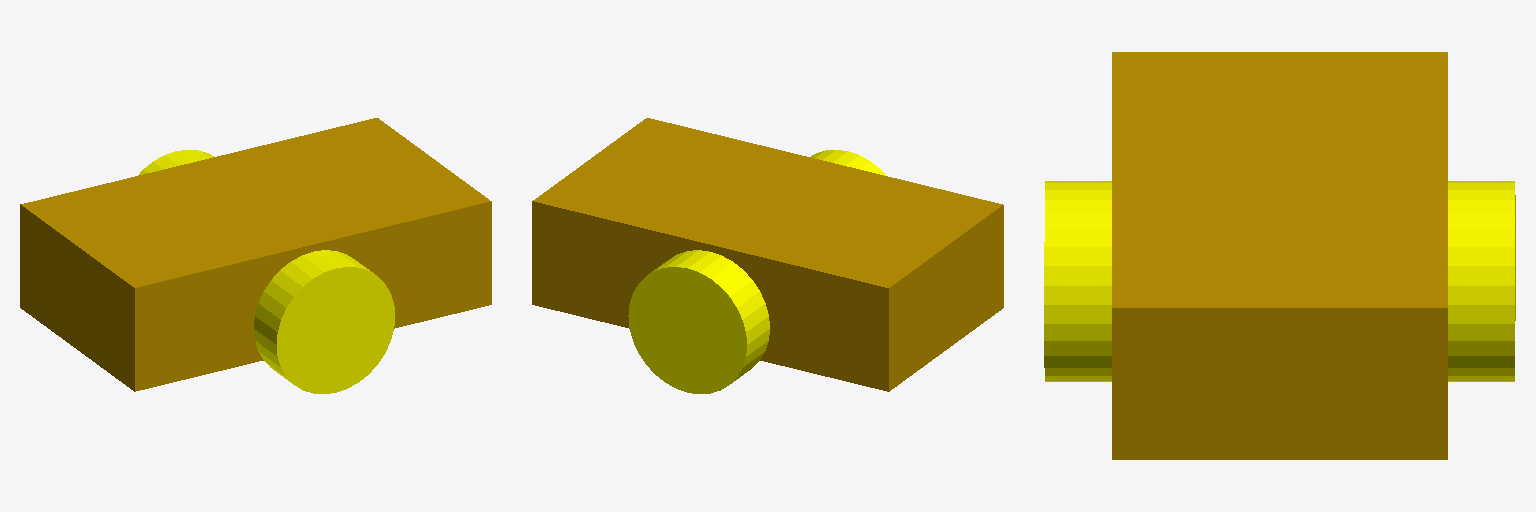
URDF robot description (my_bot):
<?xml version="1.0"?>
<robot name="my_bot">

    <material name="yellow_light">
        <color rgba="1.0 1.0 0.0 0.7"/>
    </material>

    <material name ='wooden'>
        <color rgba='0.76 0.60 0.024 1'/>
    </material>

    <material name ='black'>
        <color rgba='0.0 0.0 0.0 1'/>
    </material>

    <link name="base_link">
    </link>

    <link name="base_footprint">
    </link>
    
    <joint name="footprint_joint" type="fixed">
        <parent link="base_link"/>
        <child link="base_footprint"/>
        <origin xyz="0 0 0" rpy="0 0 0"/>
    </joint>

    <!-- B O D Y -->
    <link name="chassis">
        <visual>
            <geometry>
                <box size="0.3 0.54 0.15"/>
            </geometry>
            <material name="wooden"/>
        </visual>

        <collision>
            <geometry>
                <box size="0.3 0.54 0.15"/>
            </geometry>
        </collision>

        <inertial>
            <mass value="0.1"/>
            <origin rpy="0 0 0" xyz="0 0 0"/>
            <inertia ixx=" 0.0026175000000000005" ixy="0" ixz="0" iyy="0.0009375" iyz="0" izz="0.004860000000000001"/>
        </inertial>

    </link>

    <joint name="base_link_joint" type="fixed">
        <origin rpy="0 0 1.57" xyz="0 0 0" />
        <parent link="base_link" />
        <child link="chassis" />
    </joint>

    <!-- Wheel Left -->
    <link name="left_wheel">
        <visual>
            <origin rpy="0 1.5707 0" xyz="0 0 0"/>
            <geometry>
                <cylinder length="0.06" radius="0.09"/>
            </geometry>
            <material name="yellow_light"/>
        </visual>

        <collision>
            <origin rpy="0 1.5707 0" xyz="0 0 0"/>
            <geometry>
                <cylinder length="0.06" radius="0.09"/>
            </geometry>
        </collision>

        <inertial>
            <origin rpy="0 1.5707 0" xyz="0 0 0"/>
            <mass value="0.1"/>
            <inertia ixx="0.00023250000000000004" ixy="0" ixz="0" iyy="0.00023250000000000004" iyz="0" izz="0.000405"/>
        </inertial>
    </link>
    
    <gazebo reference="left_wheel">
        <kp>100000000000000000000.0</kp>
        <kd>100000000000000000000.0</kd>
        <mu1>10</mu1>
        <mu2>10</mu2>
        <material>Gazebo/Black</material>
    </gazebo>

    <joint name="joint_left_wheel" type="continuous">
        <origin rpy="0 0 0" xyz="0.18 0 -0.025"/>
        <child link="left_wheel"/>
        <parent link="chassis"/>
        <axis rpy="0 0 0" xyz="1 0 0"/>
        <limit effort="10000" velocity="1000"/>
        <joint_properties damping="1.0" friction="1.0"/>
    </joint>

    <!-- Wheel Right -->
    <link name="right_wheel">
        <visual>
            <origin rpy="0 1.5707 0" xyz="0 0 0"/>
            <geometry>
                <cylinder length="0.06" radius="0.09"/>
            </geometry>
            <material name="yellow_light"/>
        </visual>

        <collision>
            <origin rpy="0 1.5707 0" xyz="0 0 0"/>
            <geometry>
                <cylinder length="0.06" radius="0.09"/>
            </geometry>
        </collision>

        <inertial>
            <origin rpy="0 1.5707 0" xyz="0 0 0"/>
            <mass value="0.1"/>
            <inertia ixx="0.00023250000000000004" ixy="0" ixz="0" iyy="0.00023250000000000004" iyz="0" izz="0.000405"/>
        </inertial>
    </link>

    <gazebo reference="right_wheel">
        <kp>100000000000000000000.0</kp>
        <kd>100000000000000000000.0</kd>
        <mu1>10</mu1>
        <mu2>10</mu2>
        <material>Gazebo/Black</material>
    </gazebo>

    <joint name="joint_right_wheel" type="continuous">
        <origin rpy="0 0 0" xyz="-0.18 0 -0.025"/>
        <child link="right_wheel"/>
        <parent link="chassis"/>
        <axis rpy="0 0 0" xyz="1 0 0"/>
        <limit effort="10000" velocity="1000"/>
        <joint_properties damping="1.0" friction="1.0"/>
    </joint>

    <!-- Caster Wheel Front -->
    <link name="front_yaw_link">
        <visual>
            <origin rpy="0 1.5707 1.5707" xyz="0 0 0"/>
            <geometry>
              <cylinder length="0.005" radius="0.04"/>
            </geometry>
            <material name="wooden"/>
        </visual>

        <collision>
            <origin rpy="0 1.5707 1.5707" xyz="0 0 0"/>
            <geometry>
                <cylinder length="0.005" radius="0.04"/>
            </geometry>
        </collision>

        <inertial>
            <origin rpy="0 1.5707 1.5707" xyz="0 0 0"/>
            <mass value="0.001"/>
            <inertia ixx="4.020833333333333e-07" ixy="0" ixz="0" iyy="4.020833333333333e-07" iyz="0" izz="8.000000000000001e-07"/>
        </inertial>
    </link>

    <joint name="front_yaw_joint" type="continuous">
        <origin rpy="0 0 0" xyz="0 -0.15 -0.075"/>
        <parent link="chassis" />
        <child link="front_yaw_link" />
        <axis xyz="0 0 1" />
        <limit effort="1000.0" velocity="100.0" />
        <dynamics damping="0.0" friction="0.1"/>
    </joint>

    <gazebo reference="front_yaw_link">
        <material>Gazebo/Purple</material>
    </gazebo>

    <link name="front_roll_link">
        <visual>
            <origin rpy="0 1.5707 1.5707" xyz="0 0 0"/>
            <geometry>
                <cylinder length="0.005" radius="0.04"/>
            </geometry>
            <material name="wooden"/>
        </visual>

        <collision>
            <origin rpy="0 1.5707 1.5707" xyz="0 0 0"/>
            <geometry>
                <cylinder length="0.005" radius="0.04"/>
            </geometry>
        </collision>

        <inertial>
            <origin rpy="0 1.5707 1.5707" xyz="0 0 0"/>
            <mass value="0.001"/>
            <inertia ixx="4.020833333333333e-07" ixy="0" ixz="0" iyy="4.020833333333333e-07" iyz="0" izz="8.000000000000001e-07"/>
        </inertial>
    </link>

    <joint name="front_roll_joint" type="continuous">
        <origin rpy="0 0 0" xyz="0 0 0" />
        <parent link="front_yaw_link" />
        <child link="front_roll_link" />
        <axis xyz="1 0 0" />
        <limit effort="1000.0" velocity="100.0" />
        <dynamics damping="0.0" friction="0.1"/>
    </joint>
        
    <gazebo reference="front_roll_link">
        <material>Gazebo/Purple</material>
    </gazebo>

    <link name="front_pitch_link">
        <visual>
            <origin rpy="0 1.5707 1.5707" xyz="0 0 0"/>
            <geometry>
                <sphere radius="0.04"/>
            </geometry>
            <material name="wooden"/>
        </visual>

        <collision>
            <origin rpy="0 1.5707 1.5707" xyz="0 0 0"/>
            <geometry>
                <sphere radius="0.04"/>
            </geometry>
        </collision>

        <inertial>
            <origin rpy="0 1.5707 1.5707" xyz="0 0 0"/>
            <mass value="0.001"/>
            <inertia ixx="6.4e-07" ixy="0" ixz="0" iyy="6.4e-07" iyz="0" izz="6.4e-07"/>
        </inertial>
    </link>

    <gazebo reference="front_pitch_link">
        <kp>100000000000000.0</kp>
        <kd>100000000000000.0</kd>
        <mu1>0.5</mu1>
        <mu2>0.5</mu2>
        <material>Gazebo/Purple</material>
    </gazebo>

    <joint name="front_pitch_joint" type="continuous">
        <origin rpy="0 0 0" xyz="0 0 0" />
        <parent link="front_roll_link" />
        <child link="front_pitch_link" />
        <axis xyz="0 1 0" />
        <limit effort="1000.0" velocity="100.0" />
        <dynamics damping="0.0" friction="0.1"/>
    </joint>

    <!-- Caster Wheel Back -->
    <link name="back_yaw_link">
        <visual>
            <origin rpy="0 1.5707 1.5707" xyz="0 0 0"/>
            <geometry>
              <cylinder length="0.005" radius="0.04"/>
            </geometry>
            <material name="wooden"/>
        </visual>

        <collision>
            <origin rpy="0 1.5707 1.5707" xyz="0 0 0"/>
            <geometry>
                <cylinder length="0.005" radius="0.04"/>
            </geometry>
        </collision>

        <inertial>
            <origin rpy="0 1.5707 1.5707" xyz="0 0 0"/>
            <mass value="0.001"/>
            <inertia ixx="4.020833333333333e-07" ixy="0" ixz="0" iyy="4.020833333333333e-07" iyz="0" izz="8.000000000000001e-07"/>
        </inertial>
    </link>

    <joint name="back_yaw_joint" type="continuous">
        <origin rpy="0 0 0" xyz="0 0.15 -0.075"/>
        <parent link="chassis" />
        <child link="back_yaw_link" />
        <axis xyz="0 0 1" />
        <limit effort="1000.0" velocity="100.0" />
        <dynamics damping="0.0" friction="0.1"/>
    </joint>

    <gazebo reference="back_yaw_link">
        <material>Gazebo/Purple</material>
    </gazebo>

    <link name="back_roll_link">
        <visual>
            <origin rpy="0 1.5707 1.5707" xyz="0 0 0"/>
            <geometry>
                <cylinder length="0.005" radius="0.04"/>
            </geometry>
            <material name="wooden"/>
        </visual>

        <collision>
            <origin rpy="0 1.5707 1.5707" xyz="0 0 0"/>
            <geometry>
                <cylinder length="0.005" radius="0.04"/>
            </geometry>
        </collision>

        <inertial>
            <origin rpy="0 1.5707 1.5707" xyz="0 0 0"/>
            <mass value="0.001"/>
            <inertia ixx="4.020833333333333e-07" ixy="0" ixz="0" iyy="4.020833333333333e-07" iyz="0" izz="8.000000000000001e-07"/>
        </inertial>
    </link>

    <joint name="back_roll_joint" type="continuous">
        <origin rpy="0 0 0" xyz="0 0 0"/>
        <parent link="back_yaw_link"/>
        <child link="back_roll_link"/>
        <axis xyz="1 0 0" />
        <limit effort="1000.0" velocity="100.0" />
        <dynamics damping="0.0" friction="0.1"/>
    </joint>
        
    <gazebo reference="back_roll_link">
        <material>Gazebo/Purple</material>
    </gazebo>

    <link name="back_pitch_link">
        <visual>
            <origin rpy="0 1.5707 1.5707" xyz="0 0 0"/>
            <geometry>
                <sphere radius="0.04"/>
            </geometry>
            <material name="wooden"/>
        </visual>

        <collision>
            <origin rpy="0 1.5707 1.5707" xyz="0 0 0"/>
            <geometry>
                <sphere radius="0.04"/>
            </geometry>
        </collision>

        <inertial>
            <origin rpy="0 1.5707 1.5707" xyz="0 0 0"/>
            <mass value="0.001"/>
            <inertia ixx="6.4e-07" ixy="0" ixz="0" iyy="6.4e-07" iyz="0" izz="6.4e-07"/>
        </inertial>
    </link>

    <gazebo reference="back_pitch_link">
        <kp>100000000000000.0</kp>
        <kd>100000000000000.0</kd>
        <mu1>0.5</mu1>
        <mu2>0.5</mu2>
        <material>Gazebo/Purple</material>
    </gazebo>

    <joint name="back_pitch_joint" type="continuous">
        <origin rpy="0 0 0" xyz="0 0 0" />
        <parent link="back_roll_link" />
        <child link="back_pitch_link" />
        <axis xyz="0 1 0" />
        <limit effort="1000.0" velocity="100.0" />
        <dynamics damping="0.0" friction="0.1"/>
    </joint>

    <!-- L A S E R -->
    <link name="laser_frame">
        <visual>
            <geometry>
                <mesh filename="package://bot_description/meshes/sensors/rplidar.dae" scale="1.5 1.5 1.5"/>
            </geometry>
            <material name="black"/>
        </visual>
        <collision>
            <geometry>
                <cylinder radius="0.08" length="0.05"/>
            </geometry>
        </collision>
        <inertial>
            <origin xyz="0 0 0.075" rpy="0 0 0"/>
            <mass value="0.1"/>
            <inertia ixx="0.0001808333333333333" ixy="0" ixz="0" iyy="0.0001808333333333333" iyz="0" izz="0.00032"/>
        </inertial>
    </link>

    <joint name="laser_joint" type="fixed">
        <parent link="chassis"/>
        <child link="laser_frame"/>
        <origin xyz="0 0 0.08" rpy="0 0 1.57"/>
    </joint>

    <gazebo reference="laser_frame">
        <material>Gazebo/Black</material>
        <sensor name="laser" type="ray">
            <pose> 0 0 0 0 0 0 </pose>
            <visualize>false</visualize>
            <update_rate>30</update_rate>
            <ray>
                <scan>
                    <horizontal>
                        <samples>360</samples>
                        <min_angle>-3.14</min_angle>
                        <max_angle>3.14</max_angle>
                    </horizontal>
                </scan>
                <range>
                    <min>0.3</min>
                    <max>12</max>
                </range>
            </ray>
            <plugin name="laser_controller" filename="libgazebo_ros_ray_sensor.so">
                <ros>
                    <remapping>~/out:=scan</remapping>
                </ros>
                <output_type>sensor_msgs/LaserScan</output_type>
                <frame_name>laser_frame</frame_name>
            </plugin>
        </sensor>
    </gazebo>
    <ros2_control name="RealRobot" type="system">
        <hardware>
            <plugin>diffdrive_arduino/DiffDriveArduinoHardware</plugin>
            <param name="left_wheel_name">joint_left_wheel</param>
            <param name="right_wheel_name">joint_right_wheel</param>
            <param name="loop_rate">30.0</param>
            <param name="device">/dev/serial/by-path/pci-0000:00:14.0-usb-0:4:1.0</param>
            <param name="baud_rate">57600</param>
            <param name="timeout_ms">1000</param>
        </hardware>
        <joint name="joint_left_wheel">
            <command_interface name="velocity">
                <param name="min">-10</param>
                <param name="max">10</param>
            </command_interface>
            <state_interface name="position"/>
            <state_interface name="velocity"/>

        </joint>
        <joint name="joint_right_wheel">
            <command_interface name="velocity">
                <param name="min">-10</param>
                <param name="max">10</param>
            </command_interface>
            <state_interface name="position"/>
            <state_interface name="velocity"/>
        </joint>
    </ros2_control>
</robot>

--- Render facts (derived) ---
3 views of the same robot in one strip: view 1: azimuth 30°, elevation 25°; view 2: azimuth 150°, elevation 25°; view 3: azimuth 270°, elevation 25° (orthographic).
Model my_bot with 12 links and 11 joints (8 continuous, 3 fixed), rooted at base_link, posed every joint at zero.
Links seen in each view (by area): view 1: chassis, right_wheel, left_wheel; view 2: chassis, left_wheel, right_wheel; view 3: chassis, left_wheel, right_wheel.
Link boxes in pixels (x1,y1,x2,y2): chassis: (20, 118, 491, 391); right_wheel: (254, 250, 394, 393); left_wheel: (138, 150, 213, 175); chassis: (532, 118, 1003, 391); left_wheel: (628, 250, 769, 393); right_wheel: (811, 150, 885, 175); chassis: (1112, 52, 1447, 459); left_wheel: (1448, 181, 1515, 381); right_wheel: (1044, 181, 1111, 381).
Size in the robot's own frame: 0.5402 by 0.4201 by 0.19 metres.
0 mesh visuals loaded from 1 distinct referenced files (none loaded); not drawn: 1 (reference not matched to a file when rendering).
